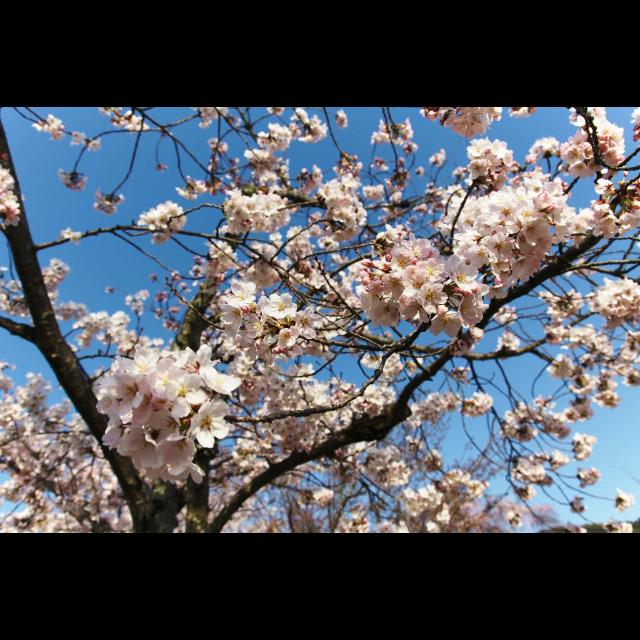Flower: (1, 107, 640, 533), (362, 231, 468, 339)
